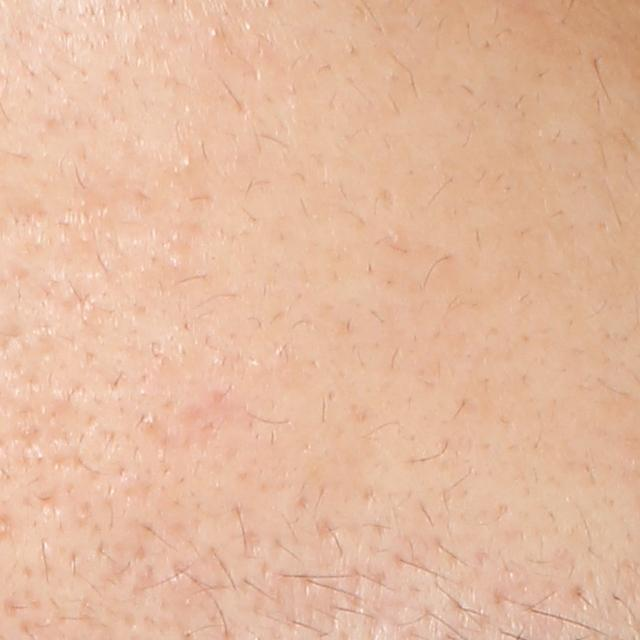comedo: (206, 23, 228, 43), (180, 156, 195, 171)
